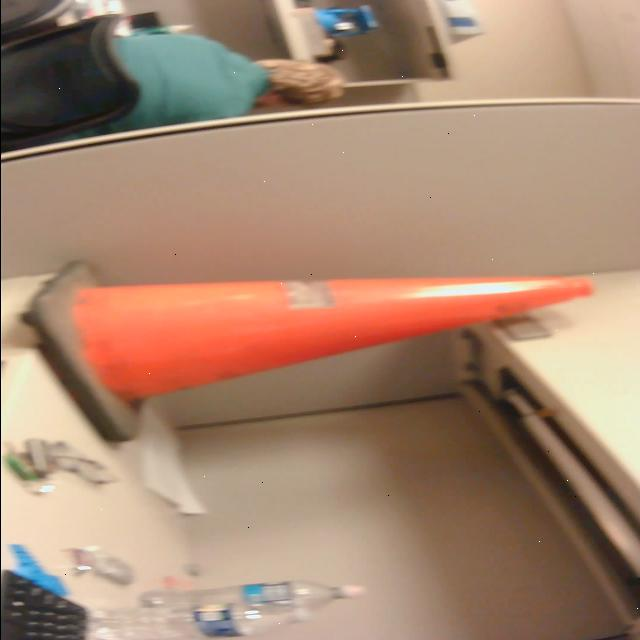traffic cone: (14, 255, 604, 448)
